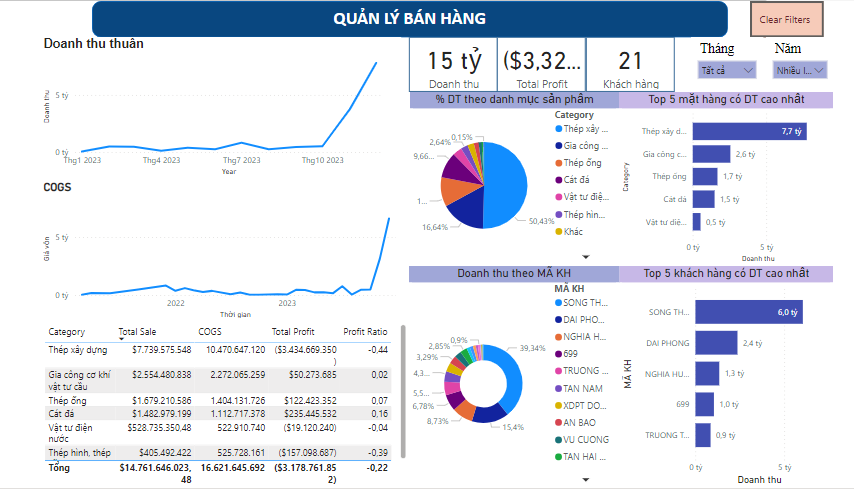

Layout of this report page (visuals, bound fields, positions):
{"tool":"powerbi","page":{"name":"Page 1","canvas":[1280,720],"ordinal":0},"visuals":[{"type":"shape","box":[183.3,0,940.2,53.8],"z":0},{"type":"textbox","box":[342.7,5,619.8,43.7],"z":1000},{"type":"lineChart","title":"Doanh thu thuần","fields":{"Y":["Sum(Bán Hàng.Doanh thu)"],"Category":["Bán Hàng.Ngày Hóa Đơn.Variation.Date Hierarchy.Year","Bán Hàng.Ngày Hóa Đơn.Variation.Date Hierarchy.Month"]},"box":[106,53.7,534,209.2],"z":2000},{"type":"actionButton","box":[1155.7,0,109.2,53.8],"z":3000},{"type":"slicer","fields":{"Values":["Bán Hàng.Ngày Hóa Đơn.Variation.Date Hierarchy.Month"]},"box":[1069.4,53.7,107.4,74.3],"z":4000},{"type":"slicer","fields":{"Values":["Bán Hàng.Ngày Hóa Đơn.Variation.Date Hierarchy.Year","Bán Hàng.Ngày Hóa Đơn.Variation.Date Hierarchy.Quarter","Bán Hàng.Ngày Hóa Đơn.Variation.Date Hierarchy.Month","Bán Hàng.Ngày Hóa Đơn.Variation.Date Hierarchy.Day"]},"box":[1179.2,53.8,100.8,73.9],"z":5000},{"type":"clusteredBarChart","title":"Top 5 khách hàng có DT cao nhất","fields":{"Y":["Sum(Bán Hàng.Doanh thu)"],"Category":["Bán Hàng.MÃ KH"]},"box":[962.5,391.4,317.5,329.2],"z":6000},{"type":"card","fields":{"Values":["Sum(Bán Hàng.Doanh thu)"]},"box":[651.8,53.8,131,80.6],"z":7000},{"type":"card","fields":{"Values":["Count(Bán Hàng.MÃ KH)"]},"box":[913.8,53.8,131,80.6],"z":8000},{"type":"card","fields":{"Values":["Bán Hàng.Total Profit"]},"box":[782.8,53.8,131,80.6],"z":9000},{"type":"clusteredBarChart","title":"Top 5 mặt hàng có DT cao nhất","fields":{"Category":["Bán Hàng.Category"],"Y":["Sum(Bán Hàng.Doanh thu)"]},"box":[962.5,134.4,317.5,257],"z":10000},{"type":"pieChart","title":"% DT theo danh mục sản phẩm","fields":{"Category":["Bán Hàng.Category"],"Y":["Sum(Bán Hàng.Doanh thu)"]},"box":[653.4,134.4,309.1,257],"z":11000},{"type":"donutChart","fields":{"Category":["Bán Hàng.MÃ KH"],"Y":["Sum(Bán Hàng.Doanh thu)"]},"box":[651.8,391.4,310.8,329.2],"z":12000},{"type":"lineChart","title":"COGS","fields":{"Y":["Sum(Mua Hang.Thành tiền)"],"Category":["Mua Hang.Ngày Hóa Đơn.Variation.Date Hierarchy.Year","Mua Hang.Ngày Hóa Đơn.Variation.Date Hierarchy.Month"]},"box":[106,264.3,534,209.2],"z":13000},{"type":"tableEx","fields":{"Values":["Bán Hàng.Category","Bán Hàng.Total Sale","Sum(Mua Hang.Thành tiền)","Bán Hàng.Total Profit","Bán Hàng.Profit Ratio"]},"box":[107.4,473.5,545,247.7],"z":14000}]}

Visuals, with their boxes in screenshot pixels (x1, y1, x2, y2), scaled from the page's 1280x720 canvas onto the 854x489 screenshot:
shape: (122,0,750,37)
textbox: (229,3,642,33)
"Doanh thu thuần" lineChart: (71,36,427,179)
actionButton: (771,0,844,37)
slicer - Bán Hàng.Ngày Hóa Đơn.Variation.Date Hierarchy.Month: (713,36,785,87)
slicer - Bán Hàng.Ngày Hóa Đơn.Variation.Date Hierarchy.Year x Bán Hàng.Ngày Hóa Đơn.Variation.Date Hierarchy.Quarter: (787,37,853,87)
"Top 5 khách hàng có DT cao nhất" clusteredBarChart: (642,266,853,488)
card - Sum(Bán Hàng.Doanh thu): (435,37,522,91)
card - Count(Bán Hàng.MÃ KH): (610,37,697,91)
card - Bán Hàng.Total Profit: (522,37,610,91)
"Top 5 mặt hàng có DT cao nhất" clusteredBarChart: (642,91,853,266)
"% DT theo danh mục sản phẩm" pieChart: (436,91,642,266)
donutChart - Bán Hàng.MÃ KH x Sum(Bán Hàng.Doanh thu): (435,266,642,488)
"COGS" lineChart: (71,180,427,322)
tableEx - Bán Hàng.Category x Bán Hàng.Total Sale: (72,322,435,488)
